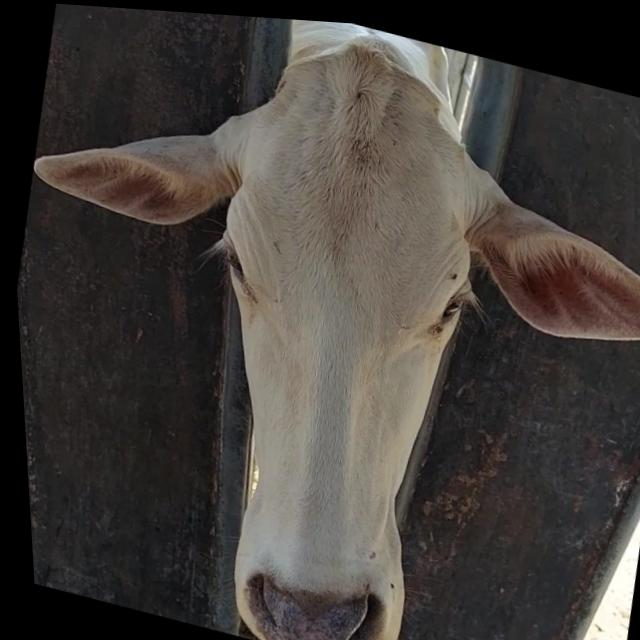cowFace: (136, 16, 531, 640)
